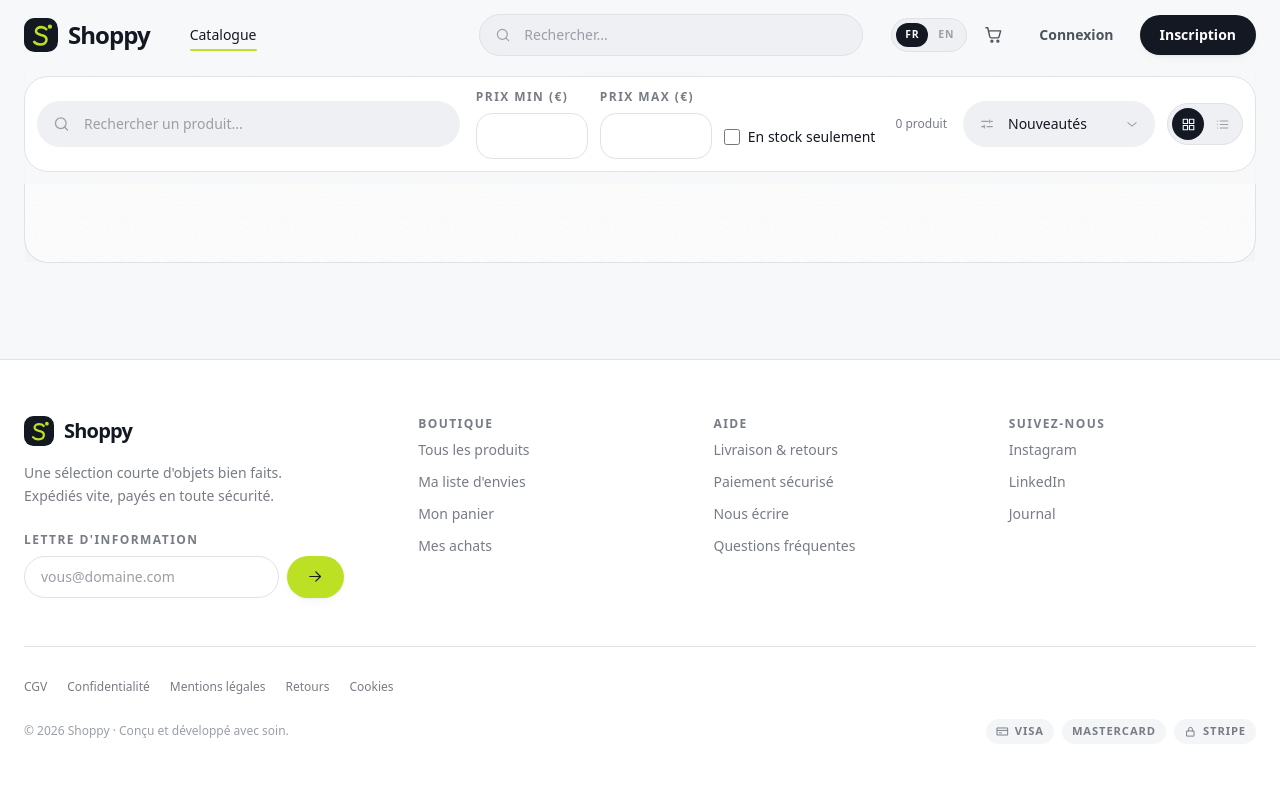
Test: LegalPage › opens the terms of sale from the footer
The image size is (1280, 800).
(page scrolled)
Click the link "CGV": click(36, 687) x1=24 y1=679 x2=47 y2=695
(page scrolled)
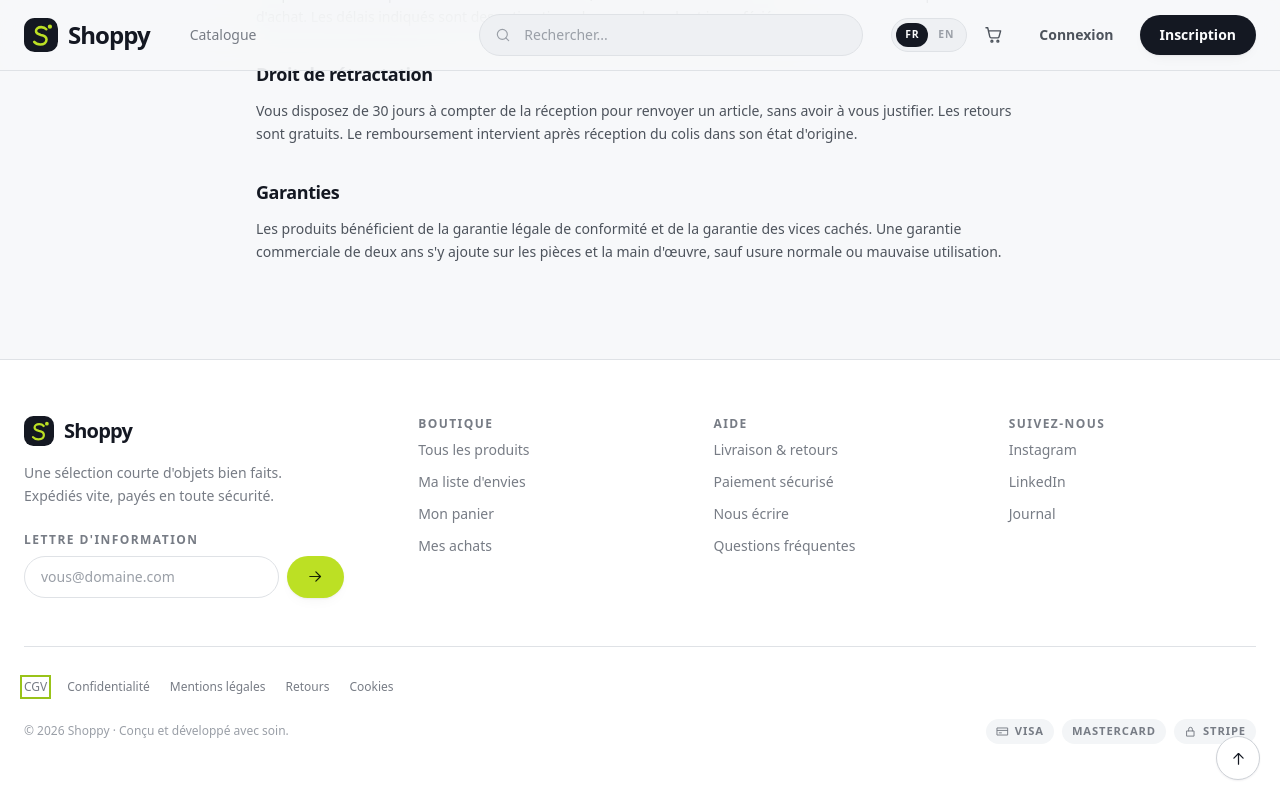
Now the heading "Droit de rétractation" is shown, box x1=256 y1=62 x2=433 y2=86
